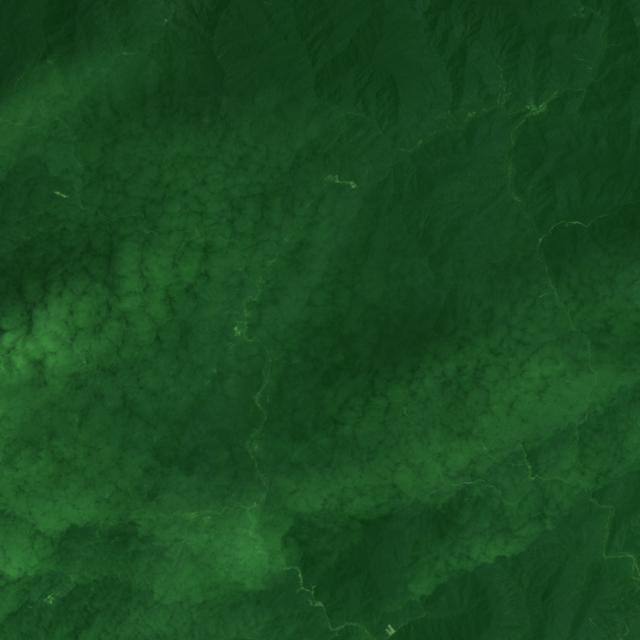landslides: (119, 271, 132, 288), (575, 55, 593, 64), (213, 205, 225, 217), (21, 225, 34, 236), (101, 66, 112, 79), (271, 238, 279, 255), (538, 291, 556, 298), (80, 164, 93, 172)
